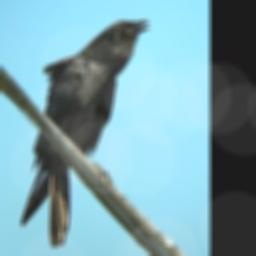Crow: (20, 17, 150, 250)
